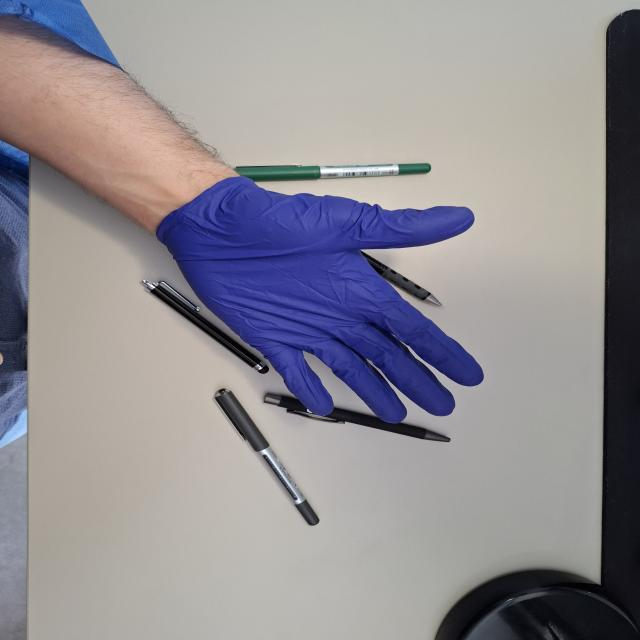glove_on: (154, 173, 488, 425)
